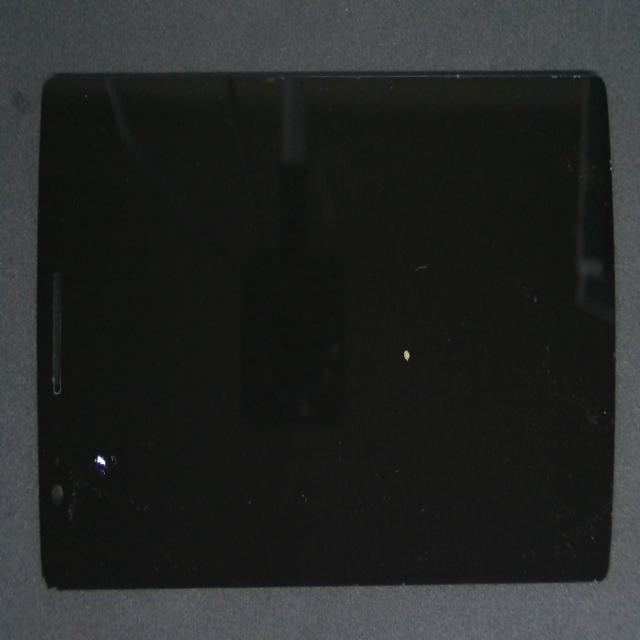stain: (161, 231, 612, 567), (19, 286, 161, 640)
